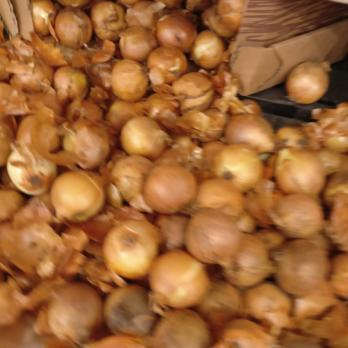Onion: (0, 125, 348, 348), (2, 0, 235, 124), (284, 60, 333, 104)
